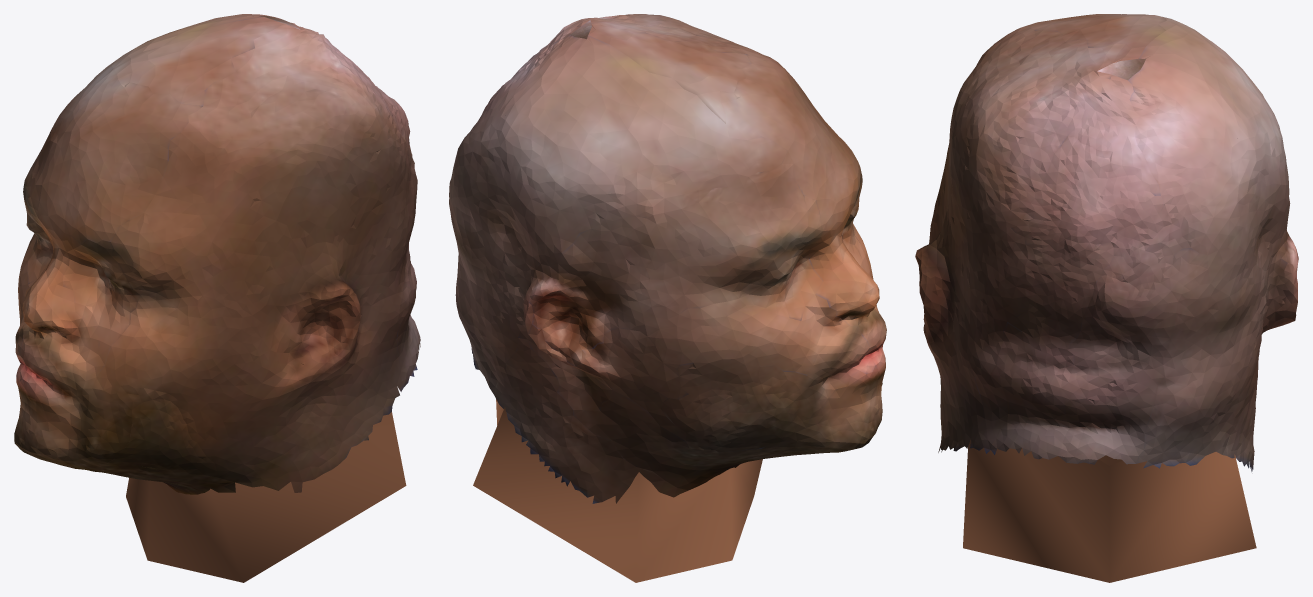
The picture shows the model from 3 angles, left to right: view 1: azimuth 30°, elevation 25°; view 2: azimuth 150°, elevation 25°; view 3: azimuth 270°, elevation 25°; orthographic projection. The views are drawn at different scales.
Parts seen in each view (by area): view 1: Feet; view 2: Feet; view 3: Feet.
Boxes of the visible parts, <box> form: Feet: <box>14,14,420,582</box>; Feet: <box>449,14,886,582</box>; Feet: <box>915,14,1298,582</box>.
Bounding box in the file's own units: 0.3421 × 0.4132 × 0.2648.
Materials: 2 (1 with a texture image).
